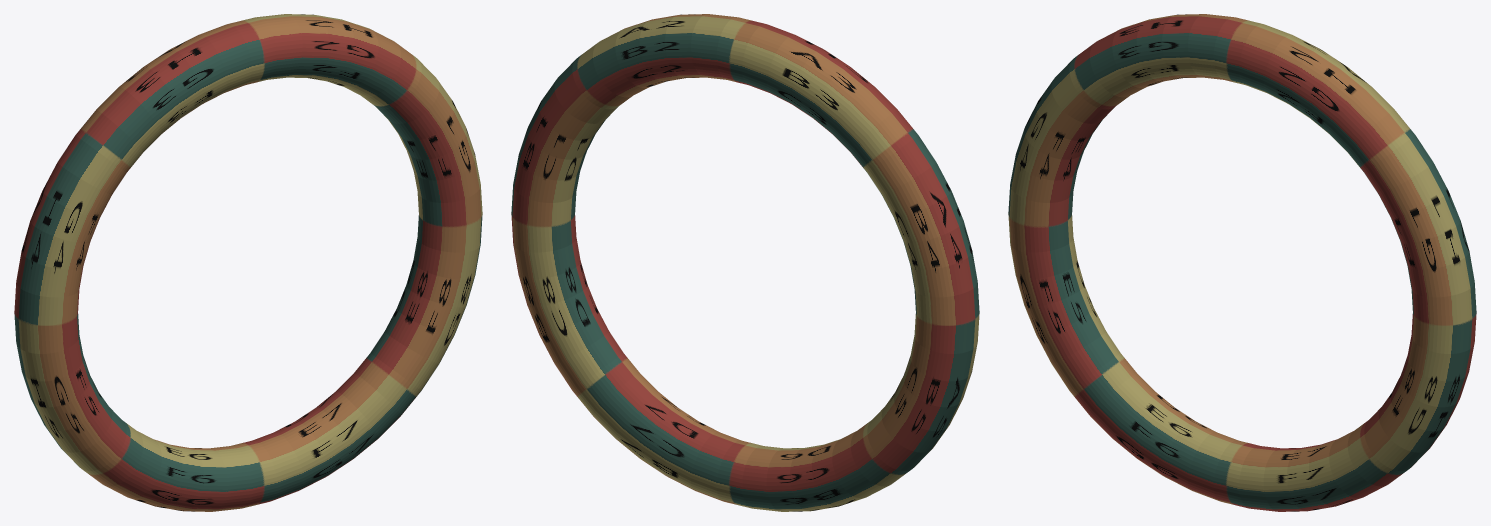
File: texture_torus_R7_r0.glb
3 views of the same model, side by side, from view 1: azimuth 30°, elevation 25°; view 2: azimuth 150°, elevation 25°; view 3: azimuth 330°, elevation 25° (orthographic).
Visible parts, largest first — view 1: world; view 2: world; view 3: world.
Boxes of the visible parts, bbox=[...] form: world: bbox=[14, 14, 482, 511]; world: bbox=[511, 14, 979, 511]; world: bbox=[1008, 14, 1476, 511].
Bounding box in the file's own units: 16.67 × 16.63 × 2.
Materials: 1 (1 with a texture image).
